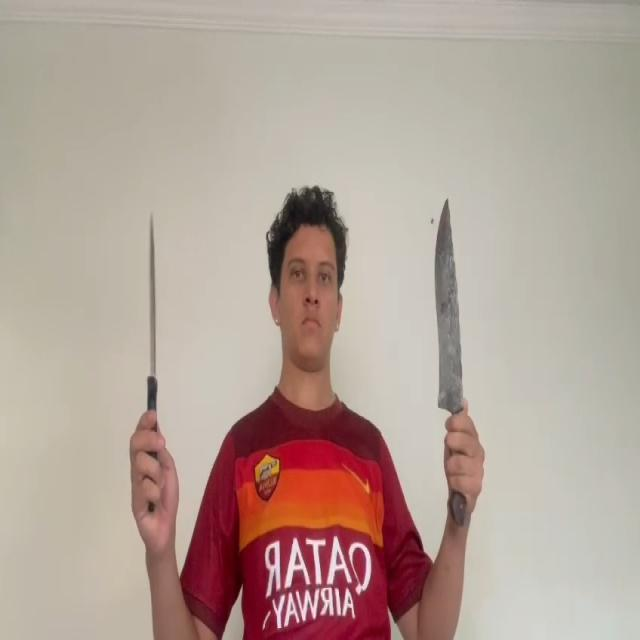knife: (434, 194, 464, 416), (148, 216, 156, 387)
